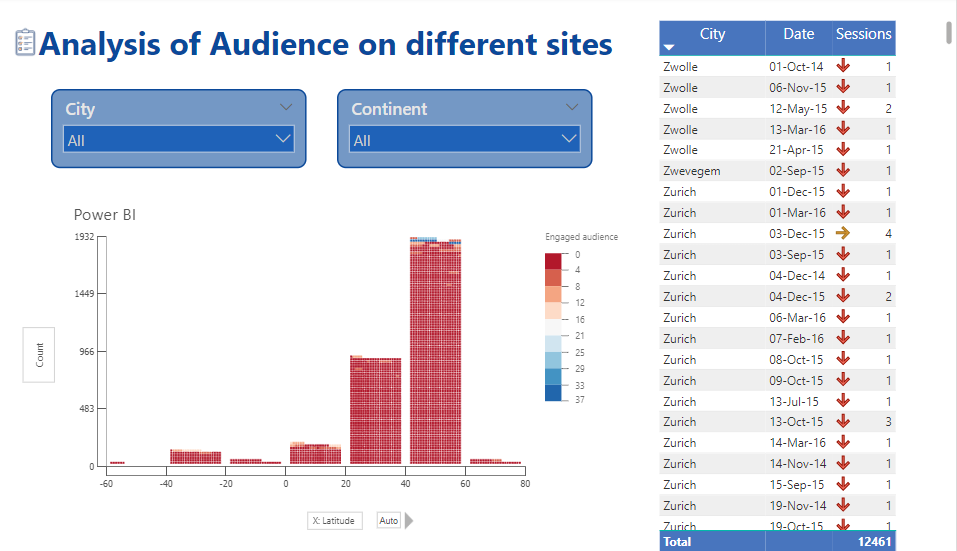

The page's visual inventory and layout, read from the dashboard file:
{"tool":"powerbi","page":{"name":"Dashboard","canvas":[1280,720],"ordinal":0},"visuals":[{"type":"SandDance1448759247246","fields":{"Values":["DimGeo.City","Sessions.Source","DimGeo.Country","DimGeo.Latitude","DimGeo.Continent","Sum(DimGeo.Engaged audience)","DimGeo.Longitude","Sum(DimGeo.Membership completions)","Sum(DimGeo.Sessions)"]},"box":[9.6,229.8,853.3,490],"z":0},{"type":"slicer","fields":{"Values":["DimGeo.City"]},"box":[67.9,95.9,342.3,106.2],"z":1000},{"type":"slicer","fields":{"Values":["DimGeo.Continent"]},"box":[451.5,95.9,342.3,106.2],"z":2000},{"type":"tableEx","fields":{"Values":["DimGeo.City","Sessions.Date","Sum(Sessions.Sessions)"]},"box":[876.7,0,403.3,719.8],"z":3000},{"type":"textbox","box":[0,0,871.2,74.3],"z":4000},{"type":"image","box":[0,9.6,67.4,48.2],"z":5000}]}

Visuals, with their boxes in screenshot pixels (x1, y1, x2, y2), scaled from the page's 1280x720 canvas onto the 957x551 screenshot:
SandDance1448759247246 - DimGeo.City x Sessions.Source: l=7, t=176, r=645, b=550
slicer - DimGeo.City: l=51, t=73, r=307, b=155
slicer - DimGeo.Continent: l=338, t=73, r=593, b=155
tableEx - DimGeo.City x Sessions.Date: l=655, t=0, r=956, b=550
textbox: l=0, t=0, r=651, b=57
image: l=0, t=7, r=50, b=44
